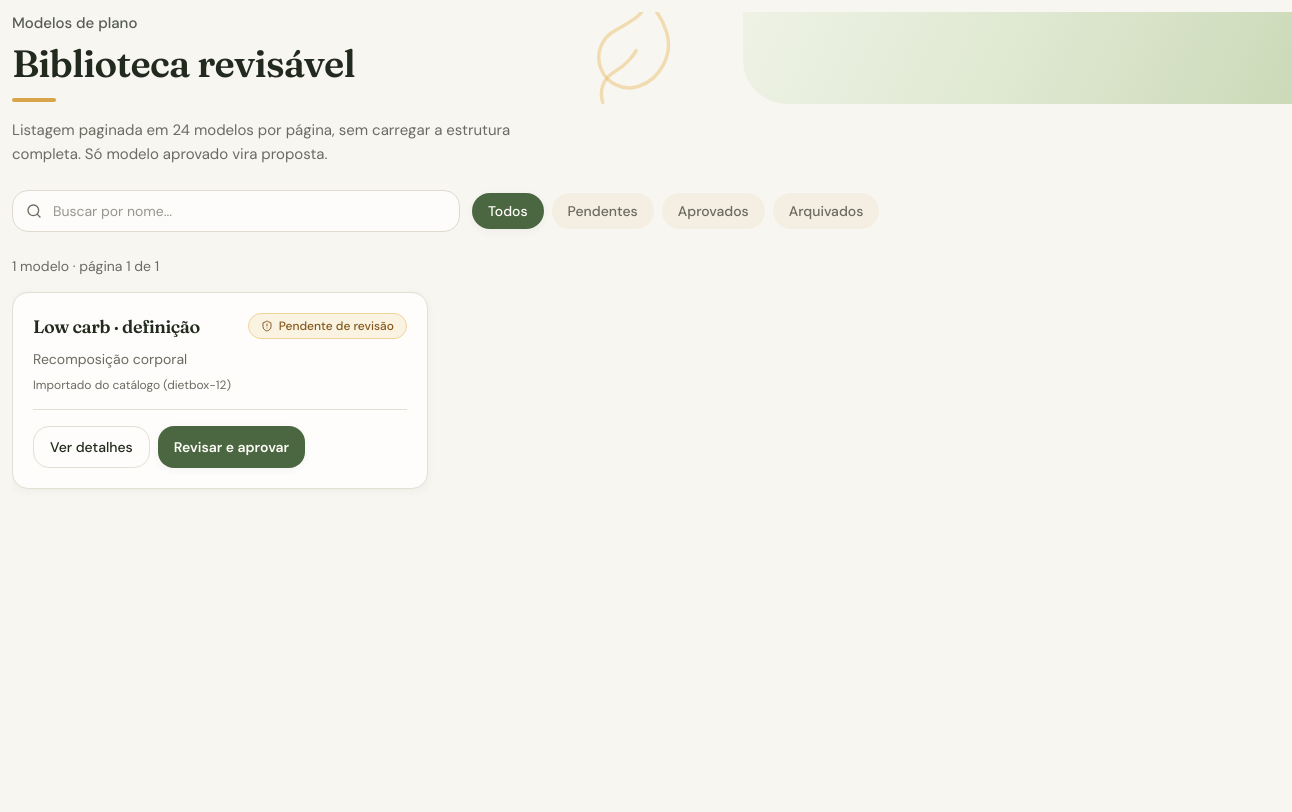
Scenario: Templates › blocks applying a template that was not reviewed
Click the button "Ver detalhes".
click(91, 447)  # box [33,426,150,468]
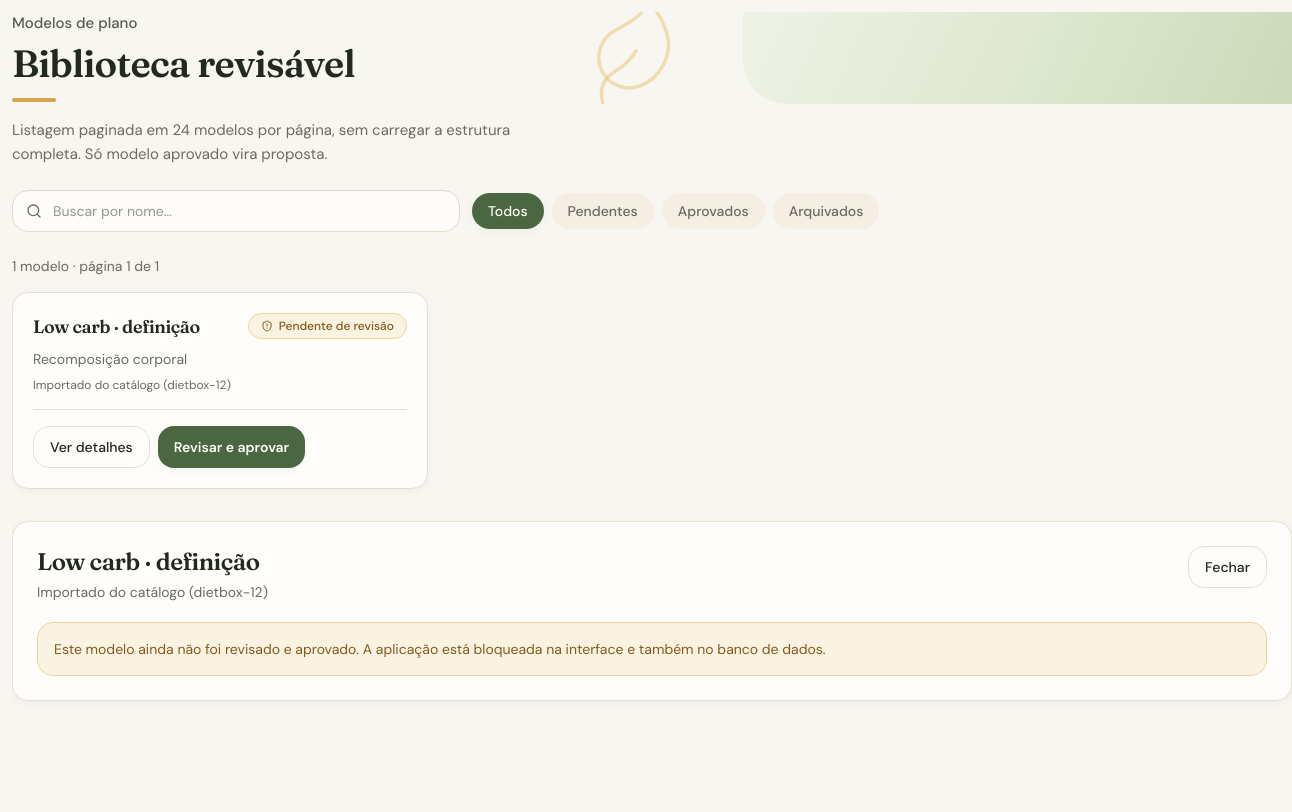
Expected: the text "A aplicação está bloqueada na interface e também no banco de dados" is shown, [54,640,826,658]
